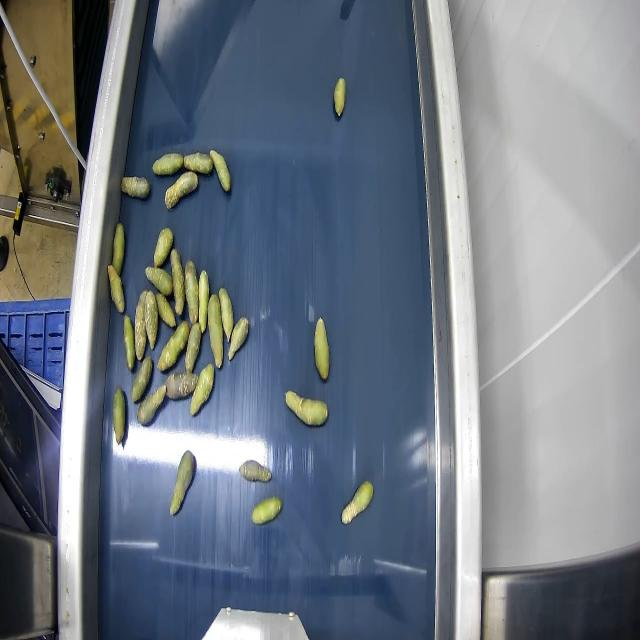Baby Potato: (170, 449, 196, 515), (285, 389, 328, 427), (157, 320, 189, 371), (341, 479, 374, 524), (159, 318, 186, 368), (190, 362, 214, 416), (164, 171, 198, 208), (137, 383, 166, 424), (207, 295, 223, 369), (131, 354, 153, 404), (228, 315, 250, 361), (209, 148, 231, 192), (314, 316, 329, 380), (250, 494, 282, 524), (171, 248, 185, 315), (165, 370, 197, 399), (184, 258, 198, 324), (218, 286, 234, 342), (153, 226, 174, 268), (145, 265, 173, 296), (144, 289, 158, 349), (185, 320, 201, 372), (112, 385, 126, 444), (238, 458, 272, 482), (134, 292, 146, 359), (108, 264, 124, 314), (152, 152, 184, 176), (198, 268, 210, 332), (120, 175, 150, 199), (183, 151, 213, 174), (122, 314, 134, 370), (157, 292, 175, 328), (112, 222, 124, 270), (333, 76, 346, 118)
